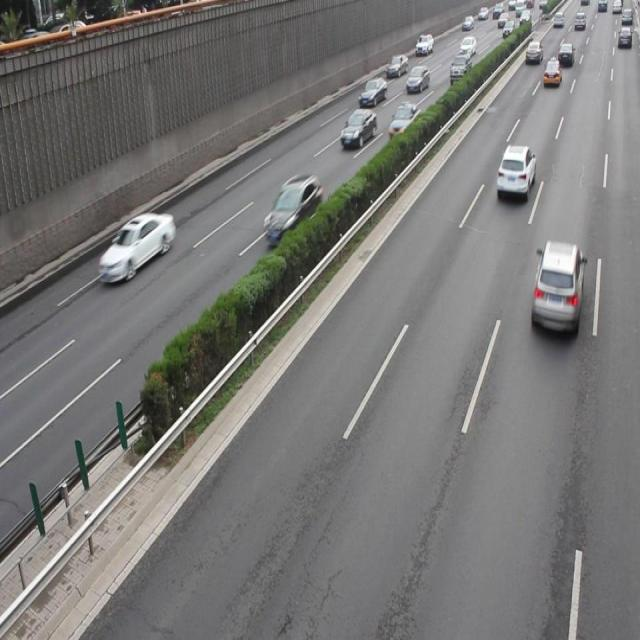car: (99, 211, 174, 284), (529, 240, 584, 336), (262, 174, 323, 242), (495, 142, 535, 199), (340, 107, 376, 149), (387, 102, 420, 140)
